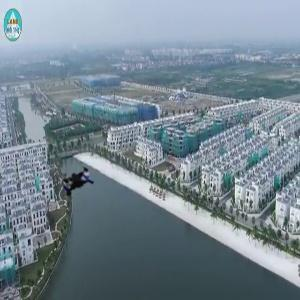drone: (54, 159, 113, 218)
